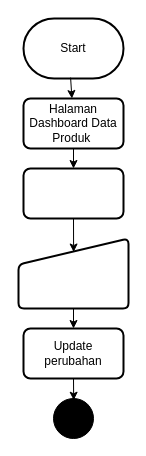
The diagram is 146 pixels wide and 456 high, and some of its shapes have lost their labels. Here are the shapes that lost their labels. From the top down, the centre of each, then its label:
At point 73,193: "Update".
At point 73,273: "Input ID,Nama, deskripsi dan harga".
